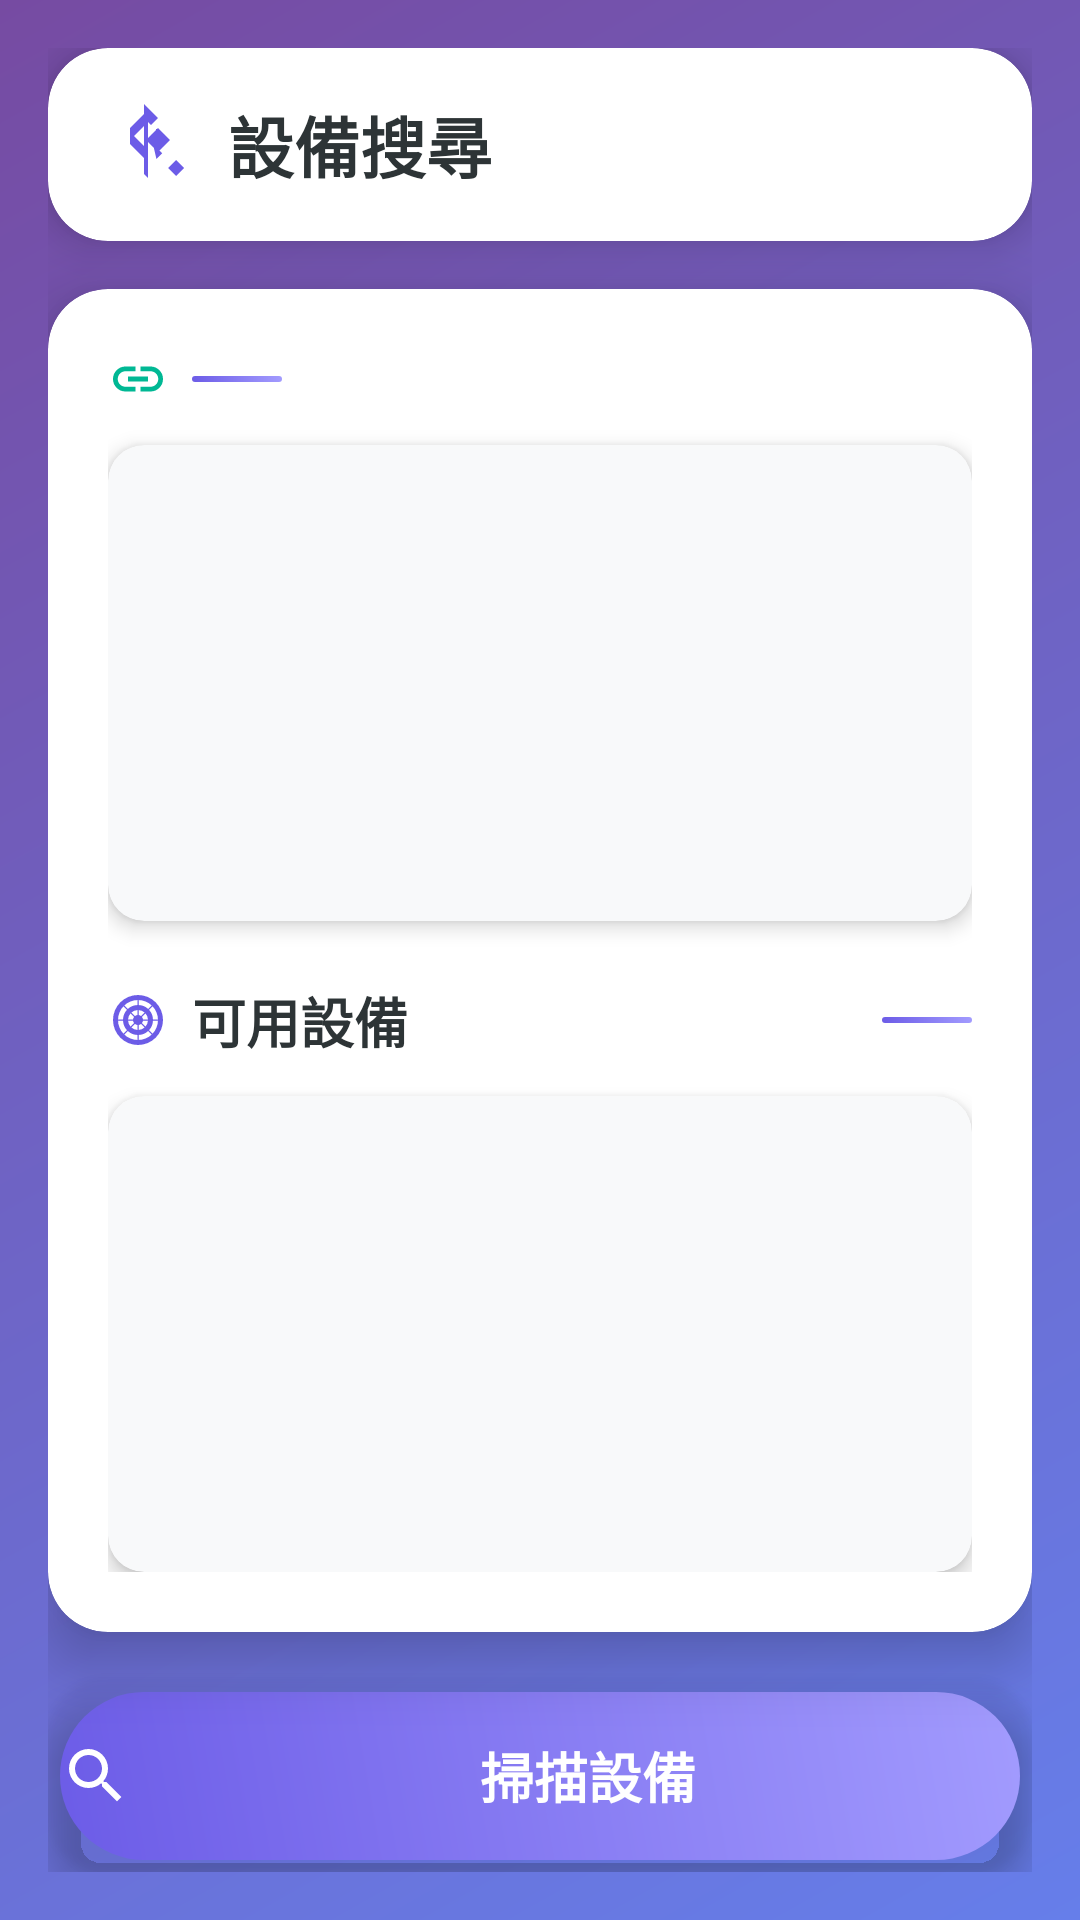

Locate icon controls on the screen. Image size 1080x1920, boxes as bbox=(x1, y1, x2, y2).
bluetooth searching: bbox=(130, 104, 184, 178)
link: bbox=(113, 366, 163, 392)
radar: bbox=(113, 995, 163, 1045)
